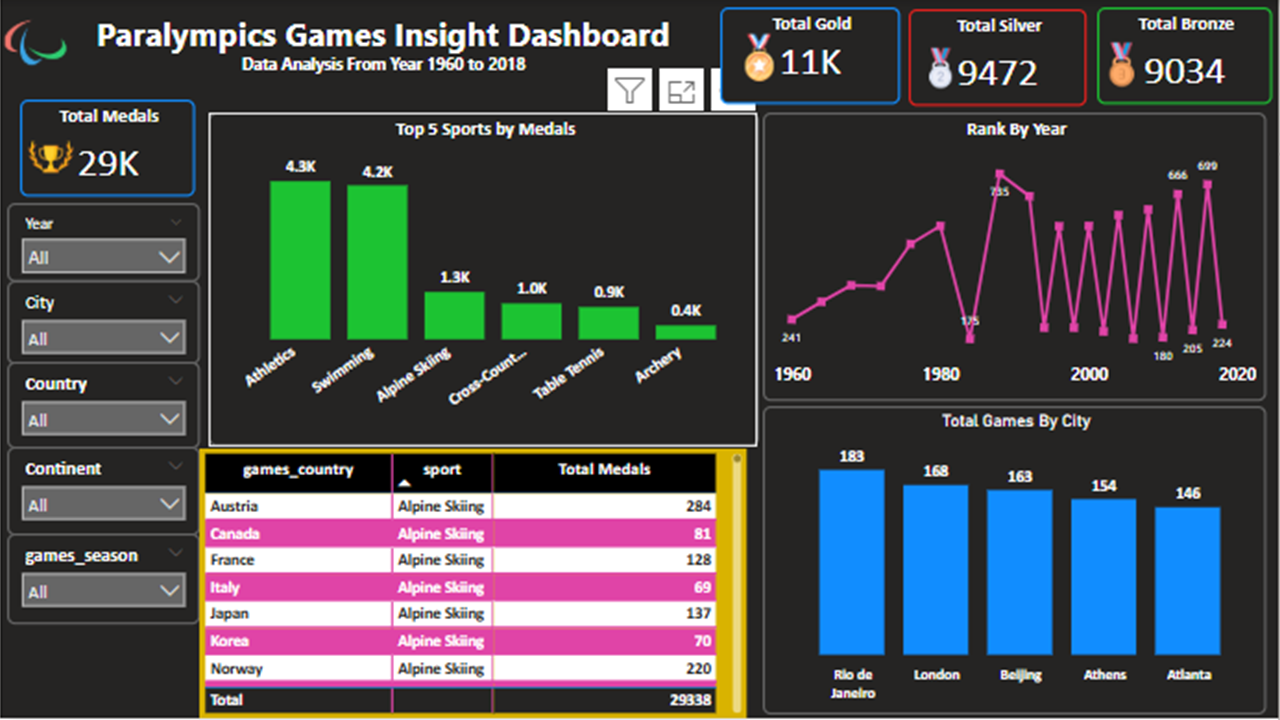

What the dashboard file says about the page in this screenshot:
{"tool":"powerbi","page":{"name":"Dashboard2","canvas":[1280,720],"ordinal":1},"visuals":[{"type":"textbox","box":[55.4,5,656.8,87.3],"z":0},{"type":"image","box":[0,0,72.2,87.3],"z":1000},{"type":"clusteredColumnChart","title":"Top 5 Sports by Medals","fields":{"Category":["Paralympics.sport"],"Y":["MeasureTable.Total Medals"]},"box":[208.3,112.5,551,334.3],"z":2000},{"type":"card","title":"Total Gold","fields":{"Values":["MeasureTable.Total Gold"]},"box":[722.3,6.7,179.7,97.4],"z":3000},{"type":"card","title":"Total Silver","fields":{"Values":["MeasureTable.Total Silver"]},"box":[910.4,8.4,178.1,97.4],"z":4000},{"type":"card","title":"Total Bronze","fields":{"Values":["MeasureTable.Total Bronze"]},"box":[1098.1,6.7,174.7,97.4],"z":5000},{"type":"card","title":"Total Medals","fields":{"Values":["MeasureTable.Total Medals"]},"box":[20.2,99.1,174.7,97.4],"z":6000},{"type":"slicer","fields":{"Values":["Paralympics.games_year"]},"box":[6.7,203.5,193.2,79],"z":7000},{"type":"slicer","fields":{"Values":["Paralympics.games_city"]},"box":[6.7,281.1,193.2,84],"z":8000},{"type":"slicer","fields":{"Values":["Paralympics.games_country"]},"box":[6.7,363.5,193.2,87.3],"z":9000},{"type":"slicer","fields":{"Values":["Paralympics.games_continent"]},"box":[6.7,447.4,193.2,89],"z":10000},{"type":"image","box":[720.6,26.9,77.3,60.5],"z":11000},{"type":"image","box":[906.6,40.3,70.6,55.4],"z":12000},{"type":"image","box":[1086.4,35.3,75.6,58.8],"z":13000},{"type":"slicer","fields":{"Values":["Paralympics.games_season"]},"box":[6.7,534.8,193.2,90.7],"z":14000},{"type":"tableEx","fields":{"Values":["Paralympics.games_country","Paralympics.sport","MeasureTable.Total Medals"]},"box":[199.9,450.2,547.6,270.4],"z":15000},{"type":"lineChart","title":"Rank By Year","fields":{"Category":["Paralympics.games_year"],"Y":["Sum(Paralympics.npc_rank)"]},"box":[764.3,112.5,503.9,288.9],"z":16000},{"type":"clusteredColumnChart","title":"Total Games By City","fields":{"Category":["Paralympics.games_city"],"Y":["CountNonNull(Paralympics.games_city)"]},"box":[764.3,406.5,503.9,309.1],"z":17000},{"type":"image","box":[23.5,124.3,53.8,65.5],"z":18000}]}

Visuals, with their boxes in screenshot pixels (x1, y1, x2, y2), scaled from the page's 1280x720 canvas onto the 1280x720 screenshot:
textbox: {"x1": 55, "y1": 5, "x2": 712, "y2": 92}
image: {"x1": 0, "y1": 0, "x2": 72, "y2": 87}
"Top 5 Sports by Medals" clusteredColumnChart: {"x1": 208, "y1": 112, "x2": 759, "y2": 447}
"Total Gold" card: {"x1": 722, "y1": 7, "x2": 902, "y2": 104}
"Total Silver" card: {"x1": 910, "y1": 8, "x2": 1088, "y2": 106}
"Total Bronze" card: {"x1": 1098, "y1": 7, "x2": 1273, "y2": 104}
"Total Medals" card: {"x1": 20, "y1": 99, "x2": 195, "y2": 196}
slicer - Paralympics.games_year: {"x1": 7, "y1": 204, "x2": 200, "y2": 282}
slicer - Paralympics.games_city: {"x1": 7, "y1": 281, "x2": 200, "y2": 365}
slicer - Paralympics.games_country: {"x1": 7, "y1": 364, "x2": 200, "y2": 451}
slicer - Paralympics.games_continent: {"x1": 7, "y1": 447, "x2": 200, "y2": 536}
image: {"x1": 721, "y1": 27, "x2": 798, "y2": 87}
image: {"x1": 907, "y1": 40, "x2": 977, "y2": 96}
image: {"x1": 1086, "y1": 35, "x2": 1162, "y2": 94}
slicer - Paralympics.games_season: {"x1": 7, "y1": 535, "x2": 200, "y2": 626}
tableEx - Paralympics.games_country x Paralympics.sport: {"x1": 200, "y1": 450, "x2": 748, "y2": 719}
"Rank By Year" lineChart: {"x1": 764, "y1": 112, "x2": 1268, "y2": 401}
"Total Games By City" clusteredColumnChart: {"x1": 764, "y1": 406, "x2": 1268, "y2": 716}
image: {"x1": 24, "y1": 124, "x2": 77, "y2": 190}
